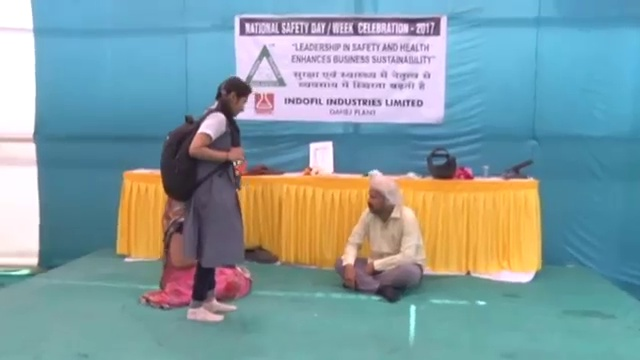helmet_off: (214, 77, 252, 117), (367, 179, 397, 218)
person: (158, 77, 254, 324), (333, 177, 426, 302)
